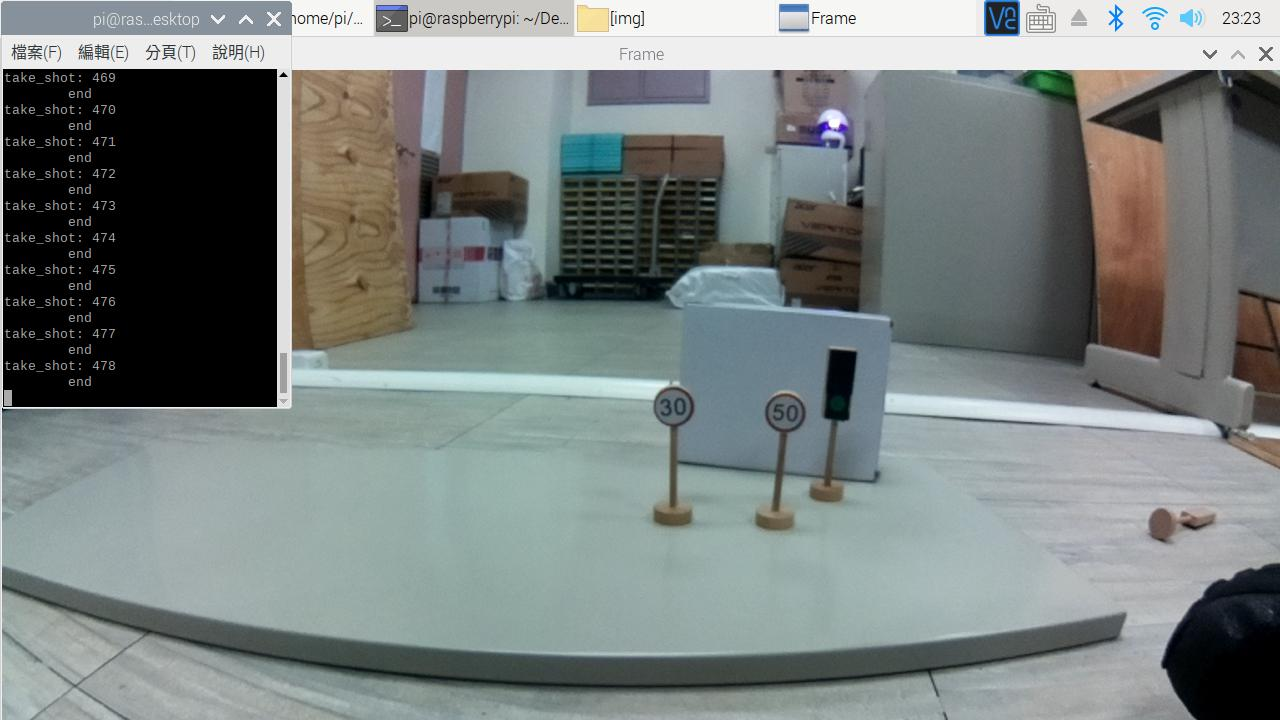Green: (817, 342, 863, 430)
Speed30: (647, 379, 705, 438)
Speed50: (757, 383, 812, 444)
